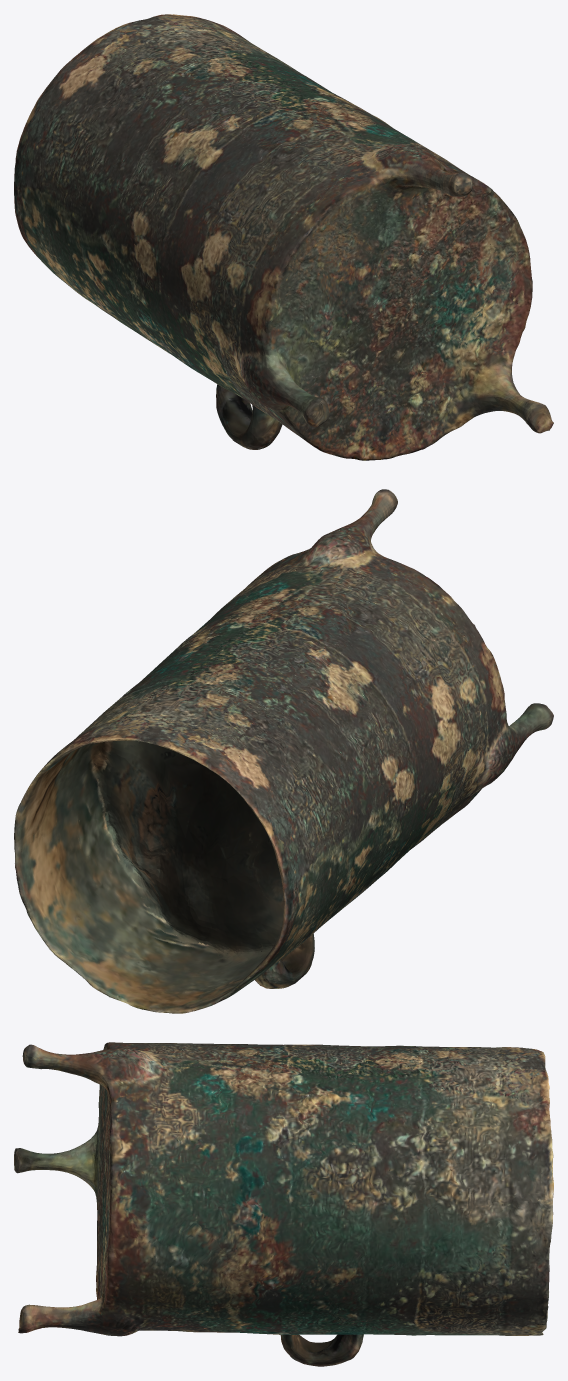
The model's file is MS_ZHI.glb.
3 views of the same model, one above another, from view 1: azimuth 30°, elevation 25°; view 2: azimuth 150°, elevation 25°; view 3: azimuth 270°, elevation 25° (orthographic). The views are drawn at different scales.
Bounding box in the file's own units: 0.0613 × 0.0752 × 0.1073.
Materials: 1 (1 with a texture image).
